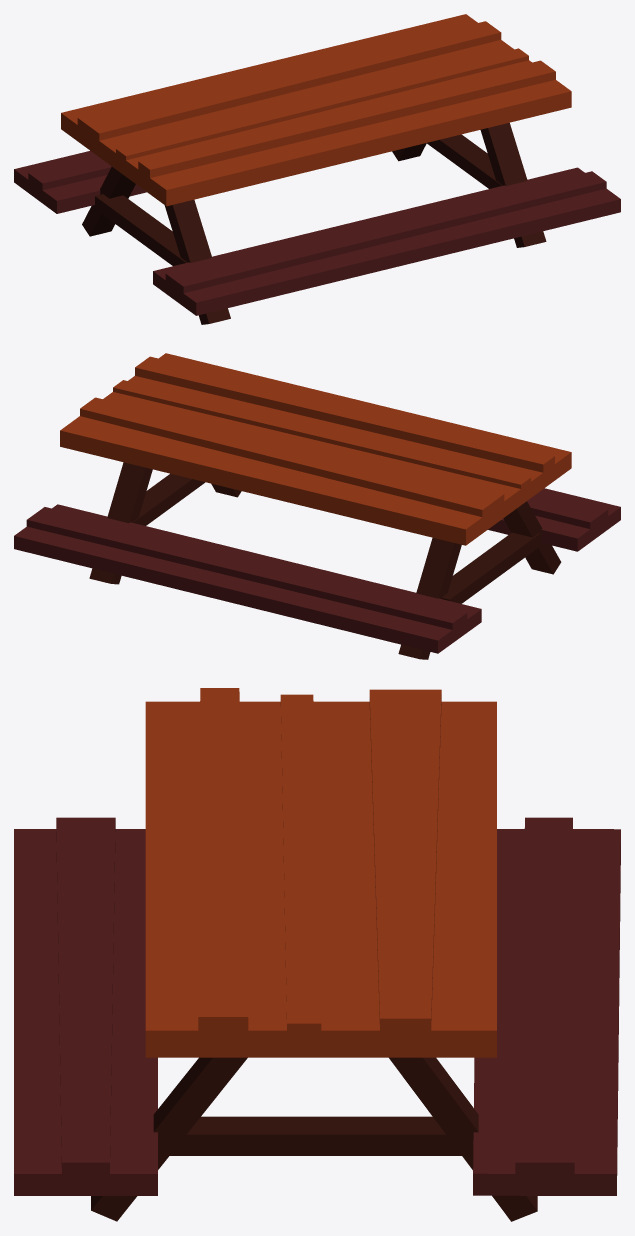
Rendered from Bank.fbx.
3 views of the same model, one above another, from view 1: azimuth 30°, elevation 25°; view 2: azimuth 150°, elevation 25°; view 3: azimuth 270°, elevation 25° (orthographic). The views are drawn at different scales.
Parts seen in each view (by area): view 1: Bank; view 2: Bank; view 3: Bank.
Part boxes in pixels (x1,y1,x2,y2): Bank: [14, 14, 620, 324]; Bank: [14, 353, 620, 659]; Bank: [14, 688, 620, 1221].
Size of the model in its own units: 301 by 96.82 by 223.
